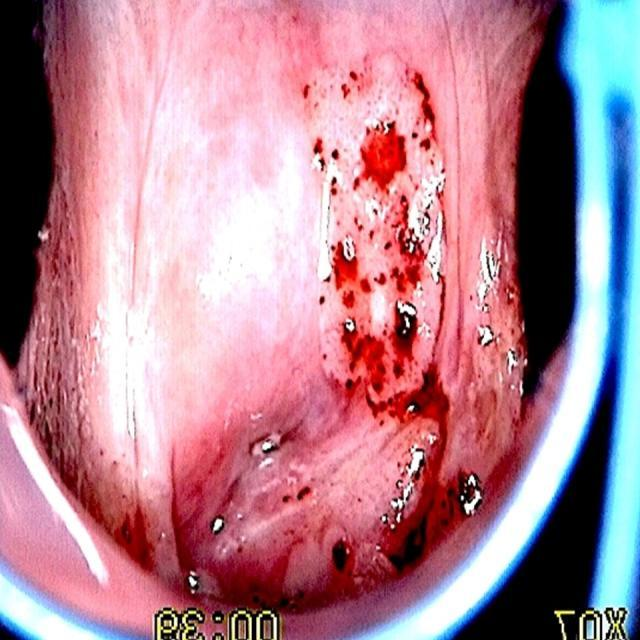cervical_lesion: (36, 21, 533, 606)
